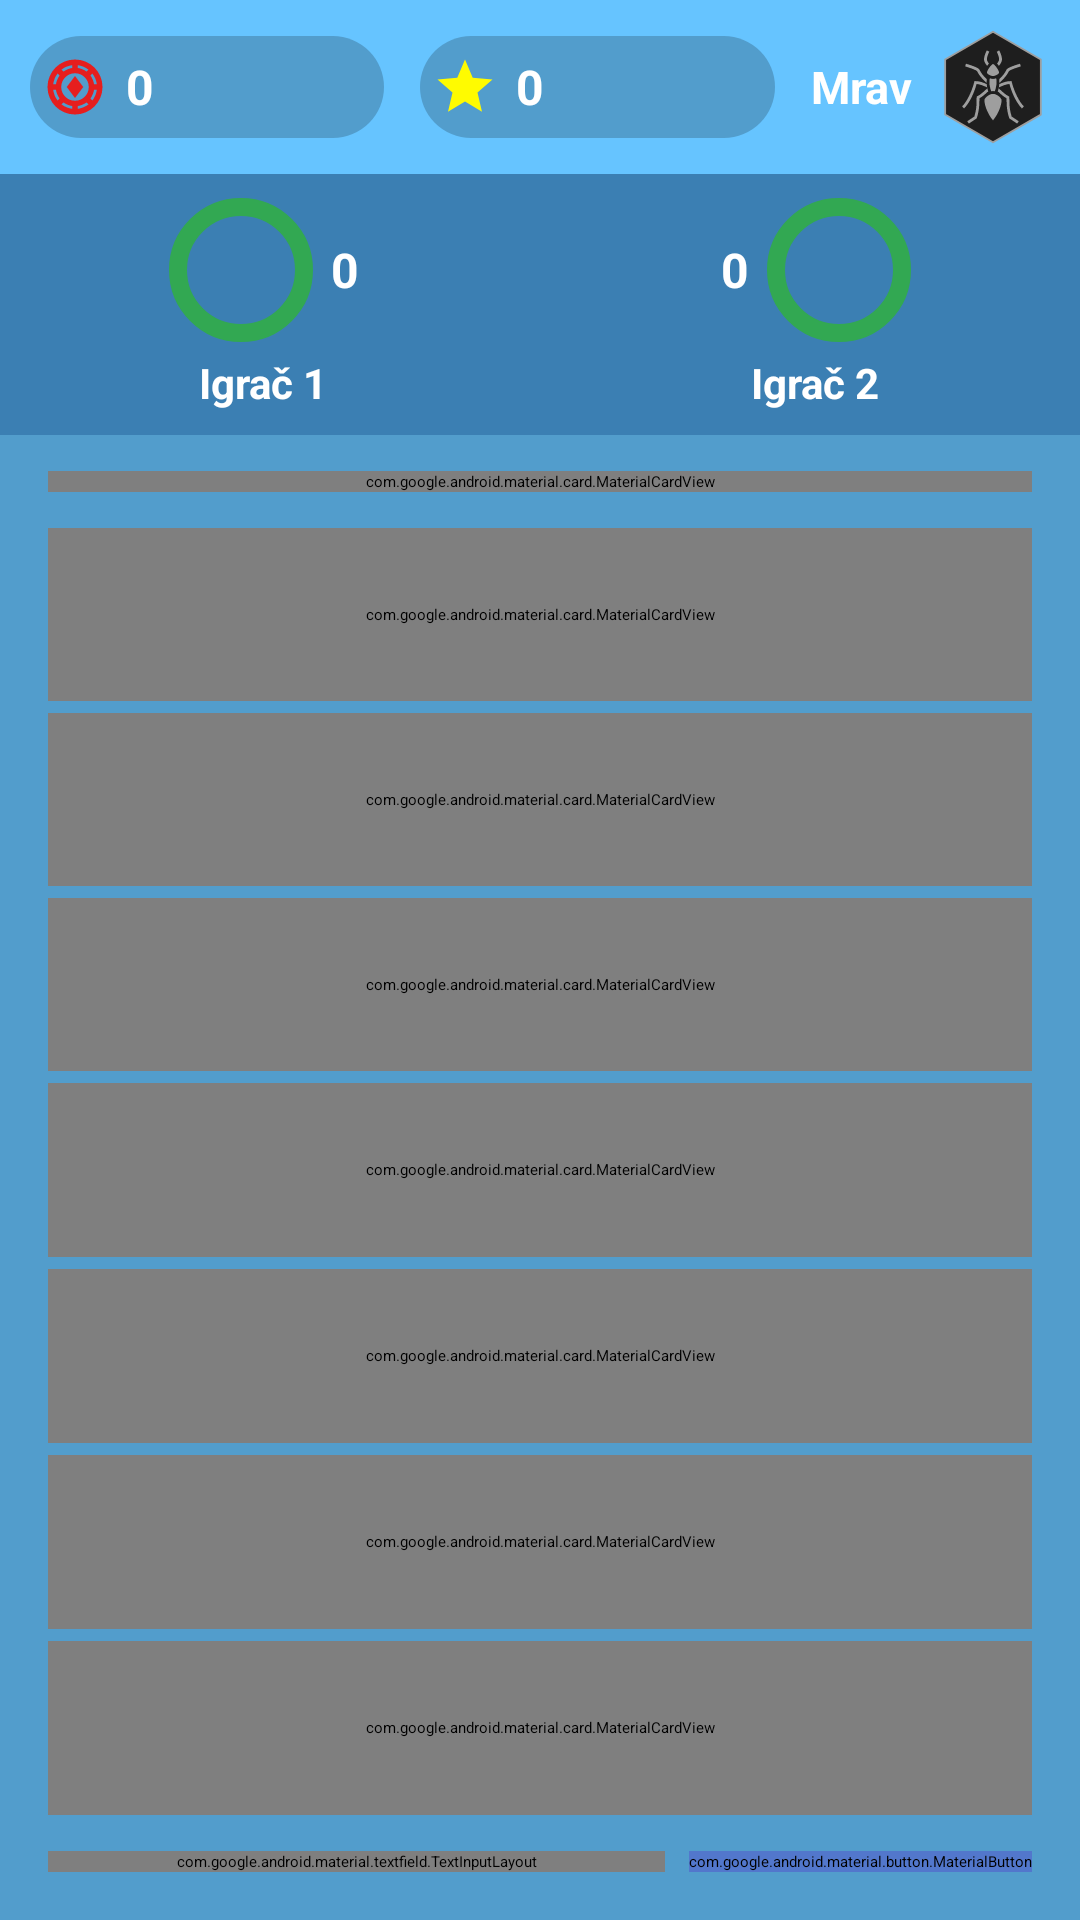

Icons on this 1080 × 1920 Android screen, each with its box as (x1, y1, x2, y2):
Liga: (944, 31, 1042, 143)
Tokeni: (47, 59, 103, 115)
Zvezde: (438, 60, 492, 112)
